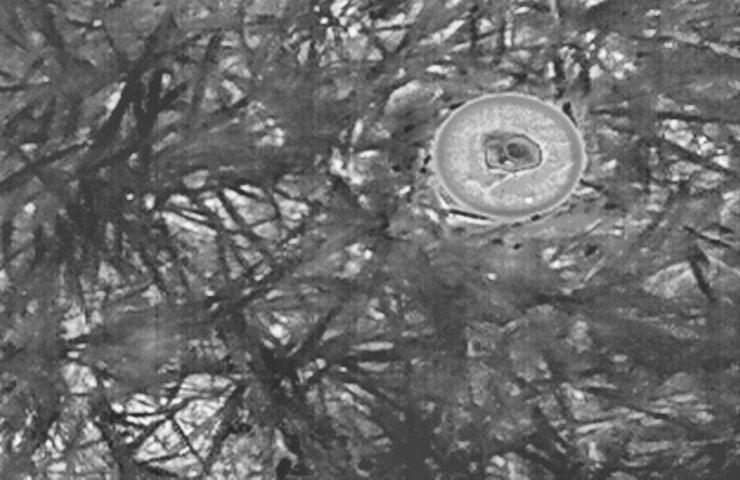landmines: (428, 87, 593, 227)
